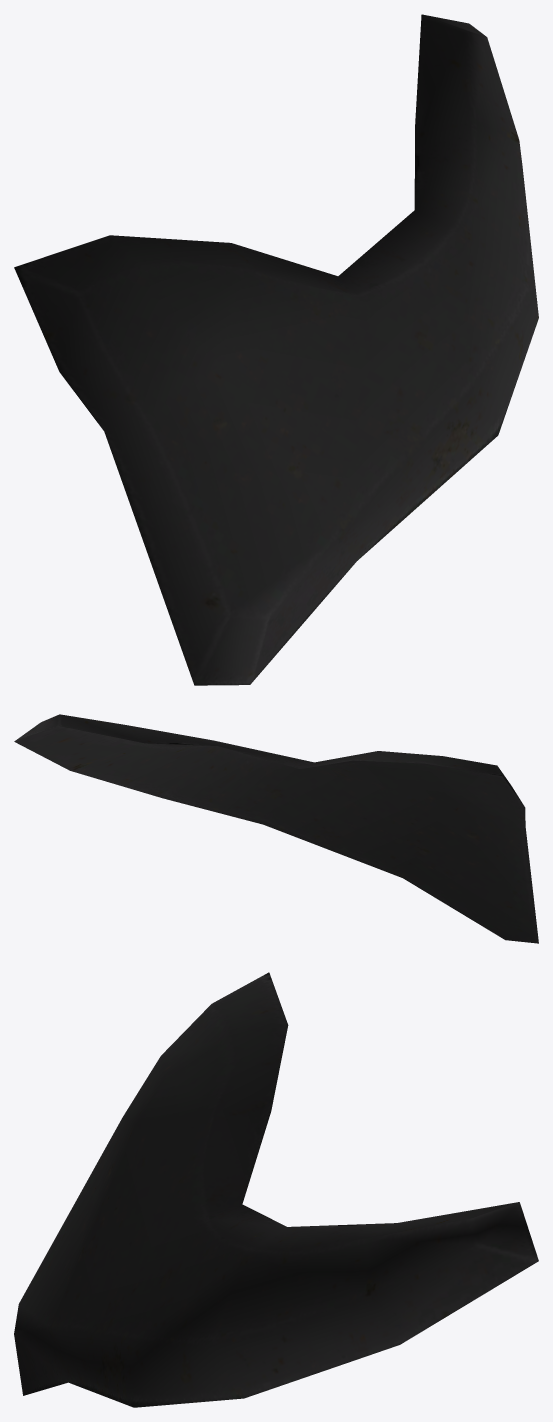
The model's file is armor_back_high_right.dae.
The picture shows the model from 3 angles, top to bottom: view 1: azimuth 30°, elevation 25°; view 2: azimuth 150°, elevation 25°; view 3: azimuth 270°, elevation 25°; orthographic projection. The views are drawn at different scales.
Visible parts, largest first — view 1: armor_back_high_right; view 2: armor_back_high_right; view 3: armor_back_high_right.
Part boxes in pixels (x1,y1,x2,y2): armor_back_high_right: [14, 14, 538, 685]; armor_back_high_right: [14, 714, 538, 943]; armor_back_high_right: [14, 972, 538, 1407].
Size of the model in its own units: 0.3811 by 0.2885 by 0.2431.
1 material, 1 textured.
